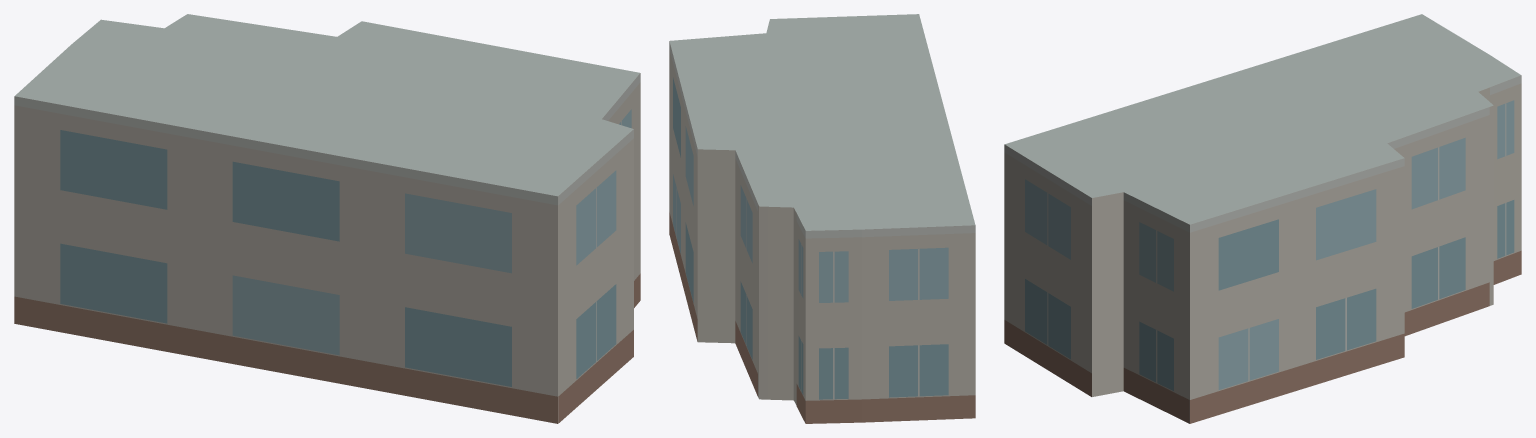
The model's file is survey-upis-32678590.glb.
The picture shows the model from 3 angles, left to right: view 1: azimuth 30°, elevation 25°; view 2: azimuth 150°, elevation 25°; view 3: azimuth 270°, elevation 25°; orthographic projection. The views are drawn at different scales.
Visible parts, largest first — view 1: survey-upis-32678590.tmp; view 2: survey-upis-32678590.tmp; view 3: survey-upis-32678590.tmp.
Part boxes in pixels (box(x1,y1,x2,y2)): survey-upis-32678590.tmp: box(14, 14, 640, 423); survey-upis-32678590.tmp: box(669, 14, 975, 423); survey-upis-32678590.tmp: box(1004, 14, 1521, 423).
Bounding box in the file's own units: 13.86 × 6.1 × 14.37.
